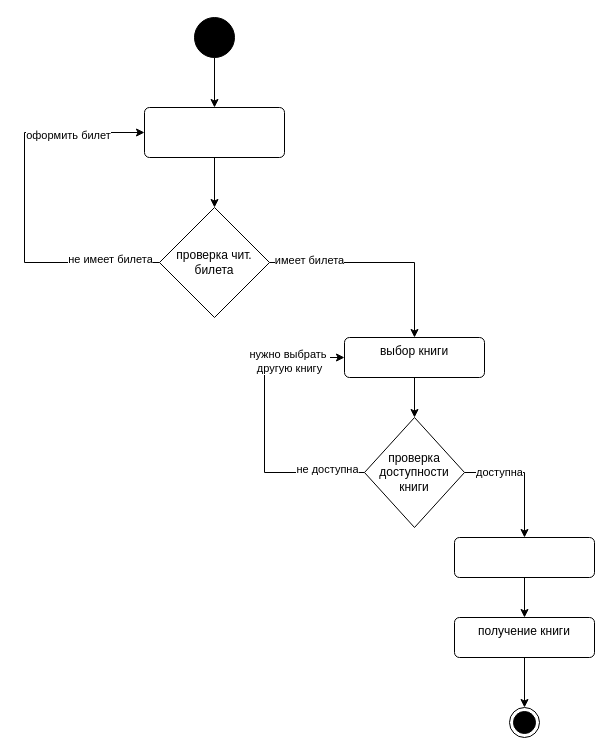
Some shapes in this 612 by 755 pixel diagram are drawn without their labels. The shapes that lost their labels are listed below. From the top down, each one's centre as x and y in pixels, then its label:
At point (214, 132): "приходит в библиотеку".
At point (524, 557): "регистрация на выдачу книги".
